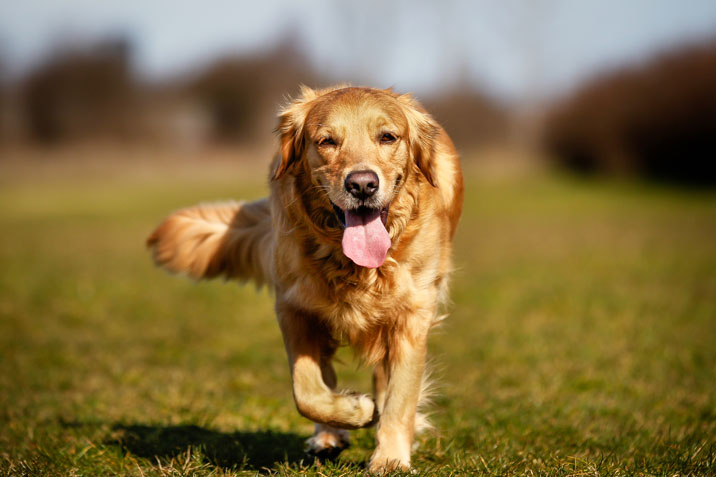dog: (151, 85, 496, 460)
